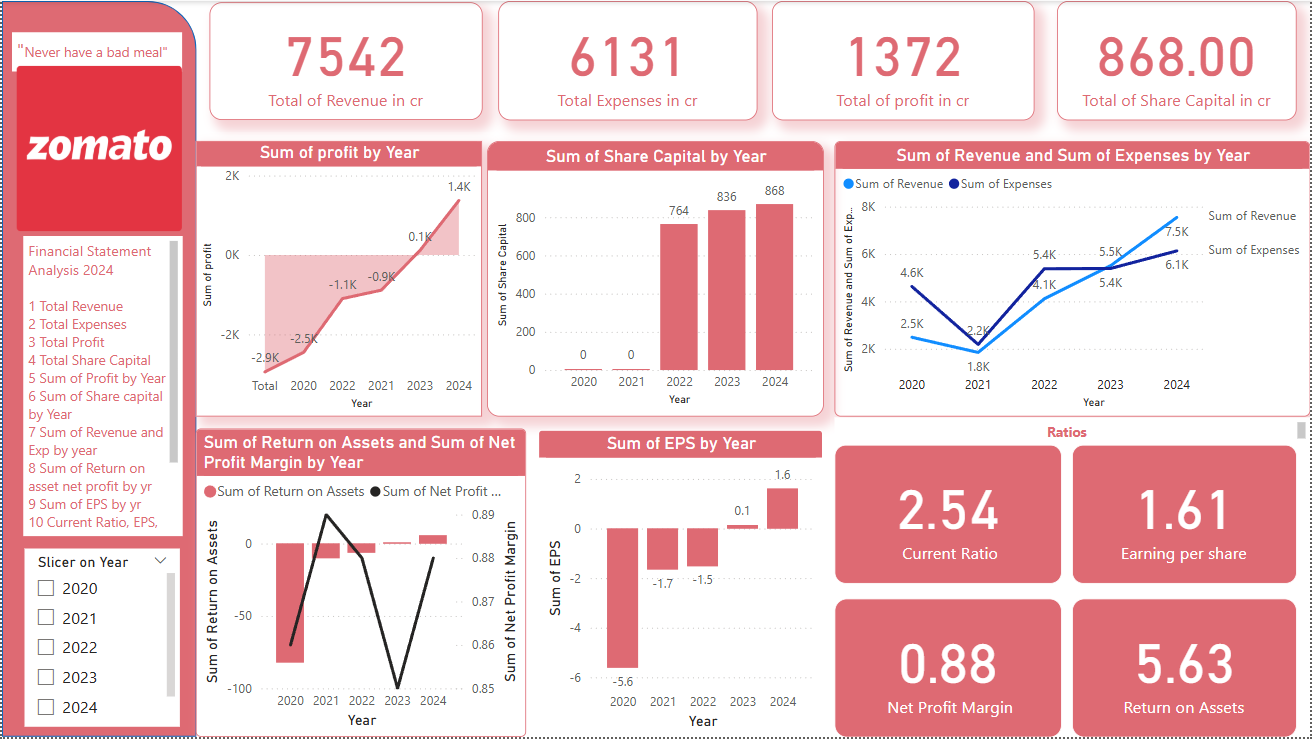

Layout of this report page (visuals, bound fields, positions):
{"tool":"powerbi","page":{"name":"Page 1","canvas":[1280,720],"ordinal":0},"visuals":[{"type":"card","title":"Total Revenue in cr","fields":{"Values":["Sum(Table1.Revenue)"]},"box":[203.5,1.5,267,115],"z":0},{"type":"shape","box":[0,0,190.3,719.8],"z":1000},{"type":"card","fields":{"Values":["Sum(Table1.Expenses)"]},"box":[485.3,0,253.7,116.5],"z":2000},{"type":"card","fields":{"Values":["Sum(Table1.profit)"]},"box":[753.7,0,256.6,116.5],"z":3000},{"type":"card","fields":{"Values":["Sum(Table1.Share Capital)"]},"box":[1032.5,0,234.5,116.5],"z":4000},{"type":"lineChart","fields":{"Category":["Table1.Year"],"Y":["Sum(Table1.Revenue)","Sum(Table1.Expenses)"]},"box":[814.5,137.3,465.8,269.2],"z":5000},{"type":"areaChart","fields":{"Category":["Table1.Year"],"Y":["Sum(Table1.profit)"]},"box":[189.8,137.3,280,269.2],"z":6000},{"type":"lineStackedColumnComboChart","fields":{"Category":["Table1.Year"],"Y":["Sum(Table1.Return on Assets)"],"Y2":["Sum(Table1.Net Profit Margin)"]},"box":[189.8,418.7,323.1,301.6],"z":7000},{"type":"clusteredColumnChart","fields":{"Category":["Table1.Year"],"Y":["Sum(Table1.Share Capital)"]},"box":[473.9,137.3,329.8,269.2],"z":8000},{"type":"clusteredColumnChart","fields":{"Category":["Table1.Year"],"Y":["Sum(Table1.EPS)"]},"box":[525.1,418.9,278.8,300.9],"z":9000},{"type":"card","fields":{"Values":["Sum(Table1.Current Ratio)"]},"box":[814.2,433.6,222.7,135.7],"z":10000},{"type":"card","fields":{"Values":["Sum(Table1.EPS)"]},"box":[1047.2,433.6,219.8,135.7],"z":11000},{"type":"card","fields":{"Values":["Sum(Table1.Net Profit Margin)"]},"box":[814.2,584.1,222.7,135.7],"z":12000},{"type":"card","fields":{"Values":["Sum(Table1.Return on Assets)"]},"box":[1047.2,584.1,219.8,135.7],"z":13000},{"type":"textbox","box":[814.2,407.1,466.1,26.5],"z":14000},{"type":"slicer","fields":{"Values":["Table1.Year"]},"box":[22.1,535.4,151.9,174],"z":15000},{"type":"textbox","box":[10.3,31,166.7,38.3],"z":16000},{"type":"image","box":[0,59,190.3,171.1],"z":17000},{"type":"textbox","box":[20.6,230.1,156.3,293.5],"z":18000}]}

Visuals, with their boxes in screenshot pixels (x1, y1, x2, y2), scaled from the page's 1280x720 canvas onto the 1312x742 screenshot:
"Total Revenue in cr" card: 209 2 482 120
shape: 0 0 195 741
card - Sum(Table1.Expenses): 497 0 757 120
card - Sum(Table1.profit): 773 0 1036 120
card - Sum(Table1.Share Capital): 1058 0 1299 120
lineChart - Table1.Year x Sum(Table1.Revenue): 835 141 1311 419
areaChart - Table1.Year x Sum(Table1.profit): 195 141 482 419
lineStackedColumnComboChart - Table1.Year x Sum(Table1.Return on Assets): 195 431 526 741
clusteredColumnChart - Table1.Year x Sum(Table1.Share Capital): 486 141 824 419
clusteredColumnChart - Table1.Year x Sum(Table1.EPS): 538 432 824 741
card - Sum(Table1.Current Ratio): 835 447 1063 587
card - Sum(Table1.EPS): 1073 447 1299 587
card - Sum(Table1.Net Profit Margin): 835 602 1063 741
card - Sum(Table1.Return on Assets): 1073 602 1299 741
textbox: 835 420 1311 447
slicer - Table1.Year: 23 552 178 731
textbox: 11 32 181 71
image: 0 61 195 237
textbox: 21 237 181 540
